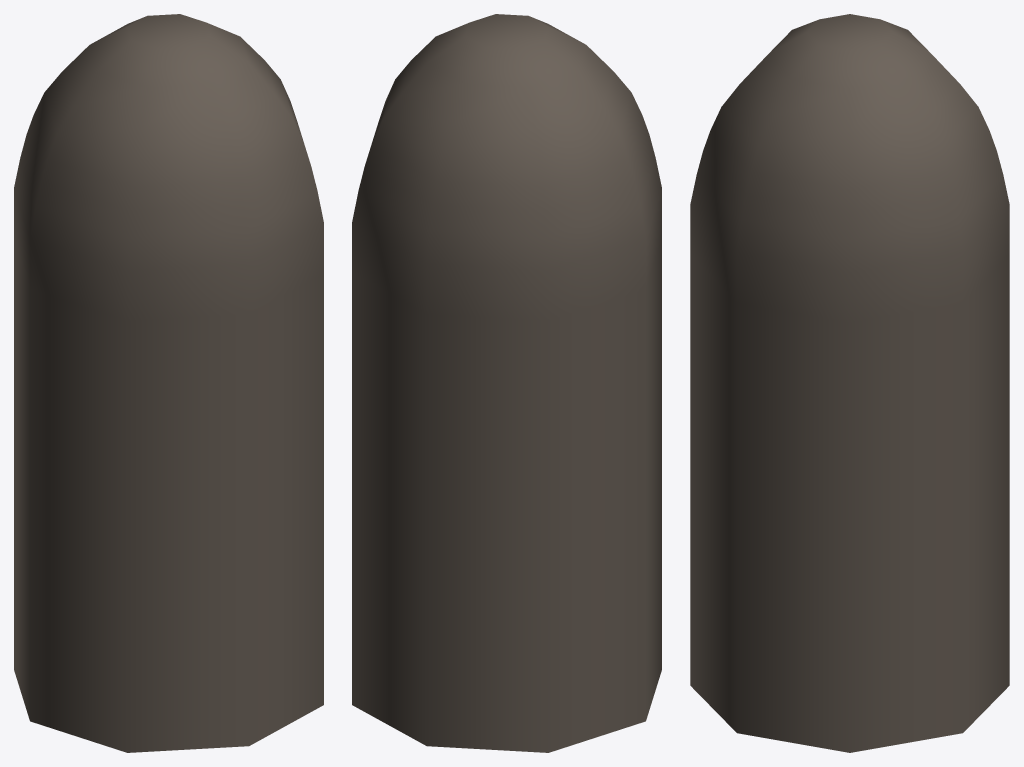
The model's file is bullet.obj.
3 views of the same model, side by side, from view 1: azimuth 30°, elevation 25°; view 2: azimuth 150°, elevation 25°; view 3: azimuth 270°, elevation 25° (orthographic).
Parts seen in each view (by area): view 1: Cylinder.000; view 2: Cylinder.000; view 3: Cylinder.000.
Part boxes in pixels (x1=…): Cylinder.000: x1=14, y1=14, x2=323, y2=752; Cylinder.000: x1=352, y1=14, x2=661, y2=752; Cylinder.000: x1=690, y1=14, x2=1009, y2=752.
Bounding box in the file's own units: 1.82 × 4.1 × 1.82.
Materials: 1 (1 with a texture image).
